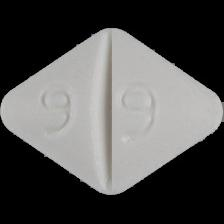0615-7544: (0, 0, 224, 224)
